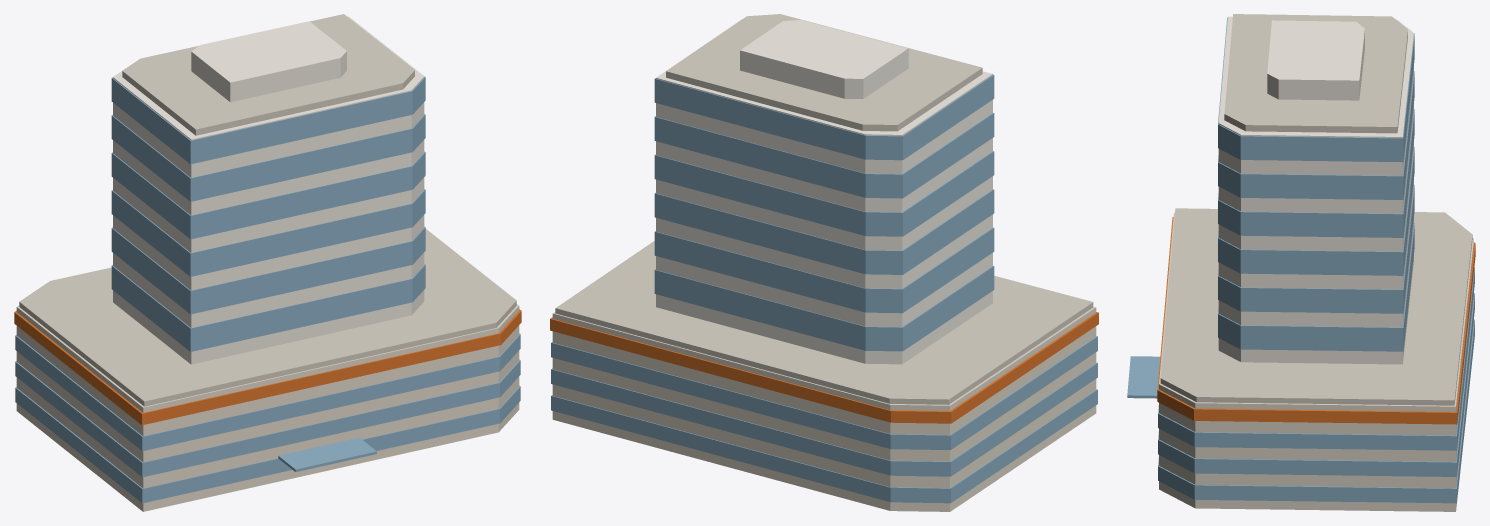
File: junction_mawtin.glb
3 renders of one model, left to right at view 1: azimuth 30°, elevation 25°; view 2: azimuth 150°, elevation 25°; view 3: azimuth 270°, elevation 25°, orthographic.
Visible parts, largest first — view 1: part; view 2: part; view 3: part.
Part boxes in pixels (x1,y1,x2,y2): part: (14, 14, 521, 511); part: (550, 14, 1098, 511); part: (1127, 14, 1475, 511).
Size of the model in its own units: 2616177 by 2267428 by 1965306.
